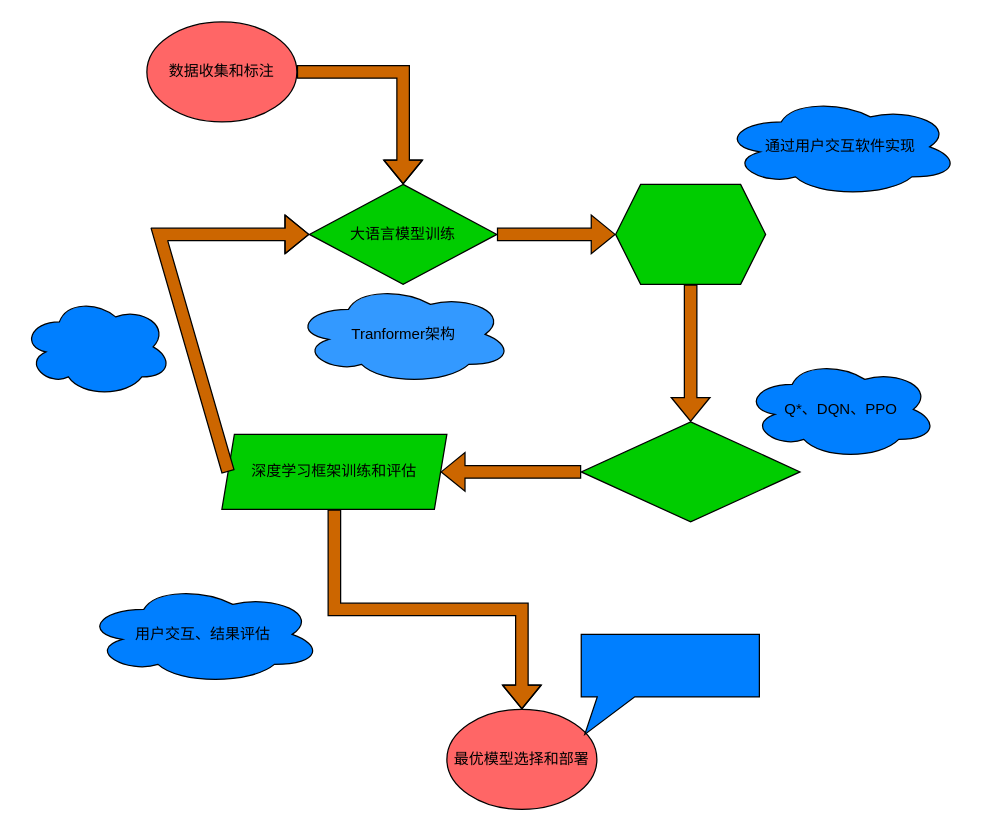
Some shapes in this 981 by 831 pixel diagram are drawn without their labels. The shapes that lost their labels are listed below. From the top down, each one's box as (x1, y1, x2, y2) in pixels, then its label:
(614, 183, 766, 284): 用户评判标准转化
(21, 296, 172, 397): 用户反馈
(580, 421, 800, 522): 生成深度学习框架
(580, 633, 759, 734): 华为昇腾智慧计算平台
